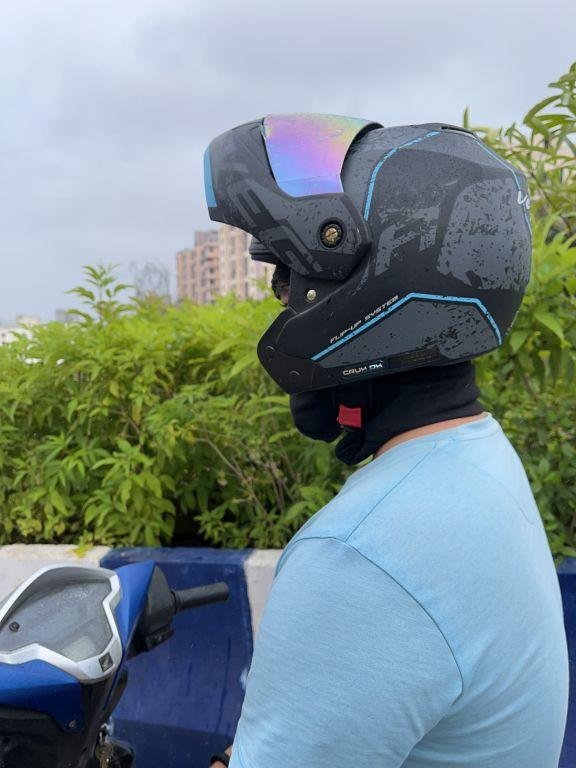helmet: (192, 95, 545, 434)
